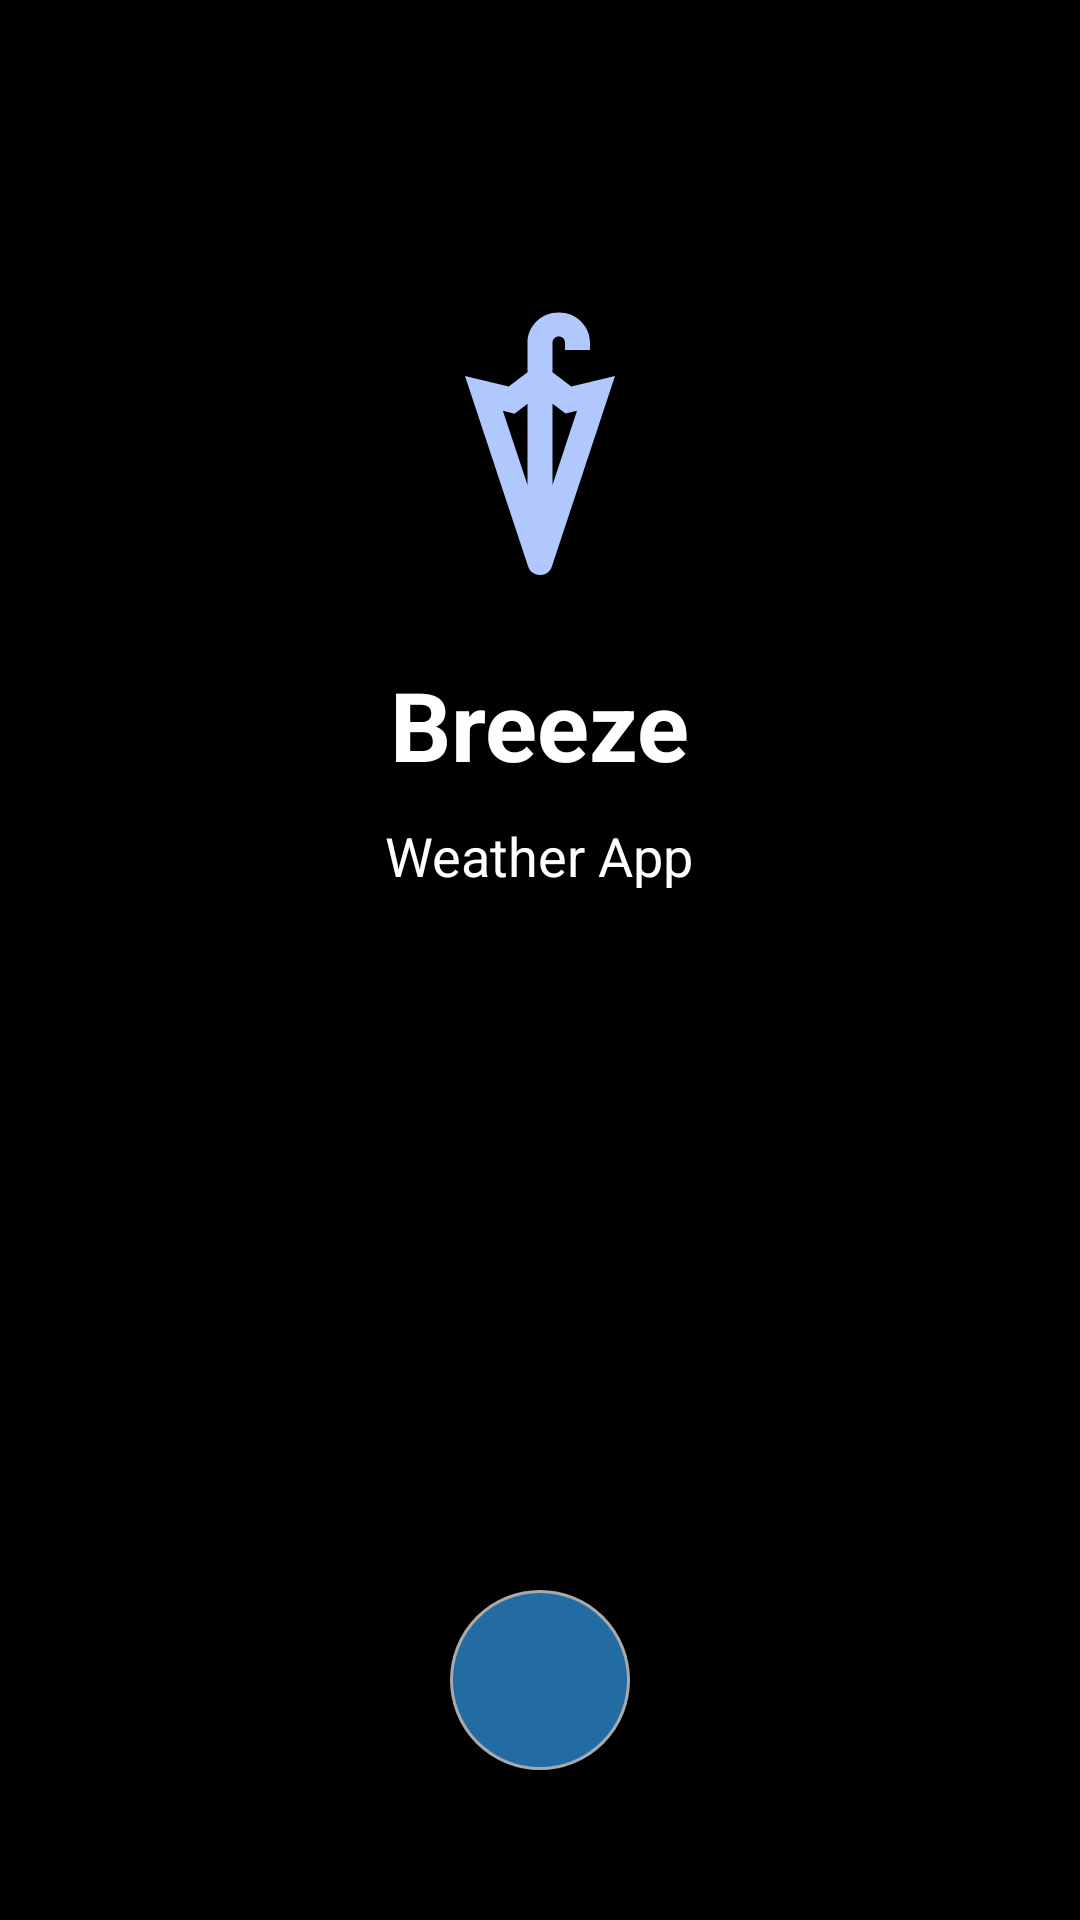

Locate icon controls on the screen. Image size 1080w x 1920h, boxes as (x1, y1, x2, y2).
Umbrella Icon: (465, 312, 615, 575)
